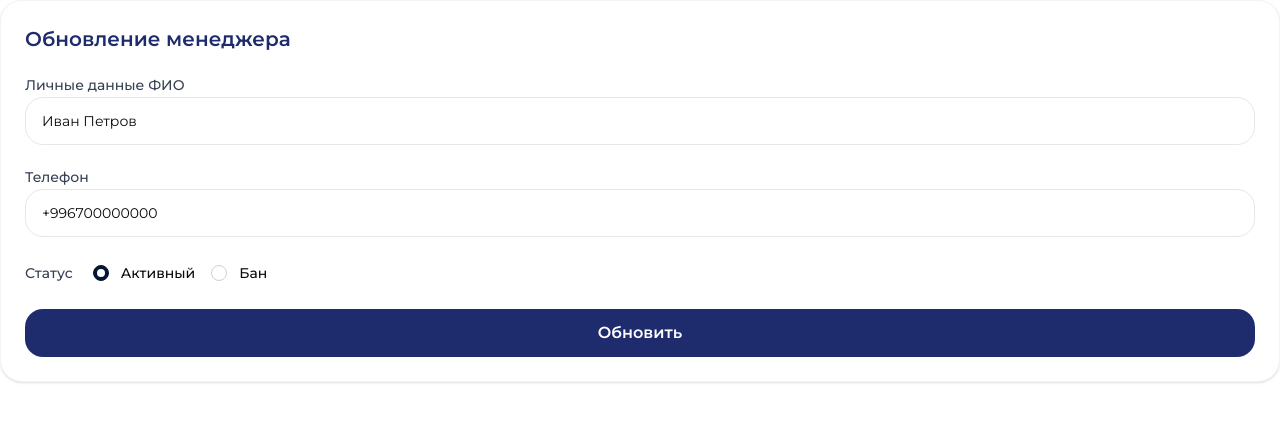
UpdateManagerForm › проверяет формат телефона
Type "abc" into the field labelled "Телефон" at (640, 213), box [25, 189, 1255, 237]
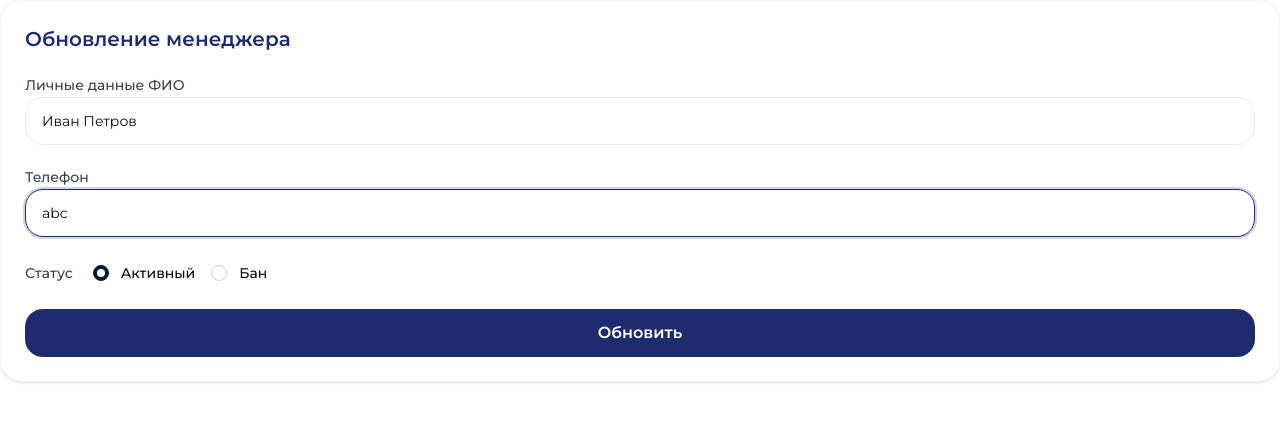
Click the button "Обновить" at (640, 333), box [25, 309, 1255, 357]
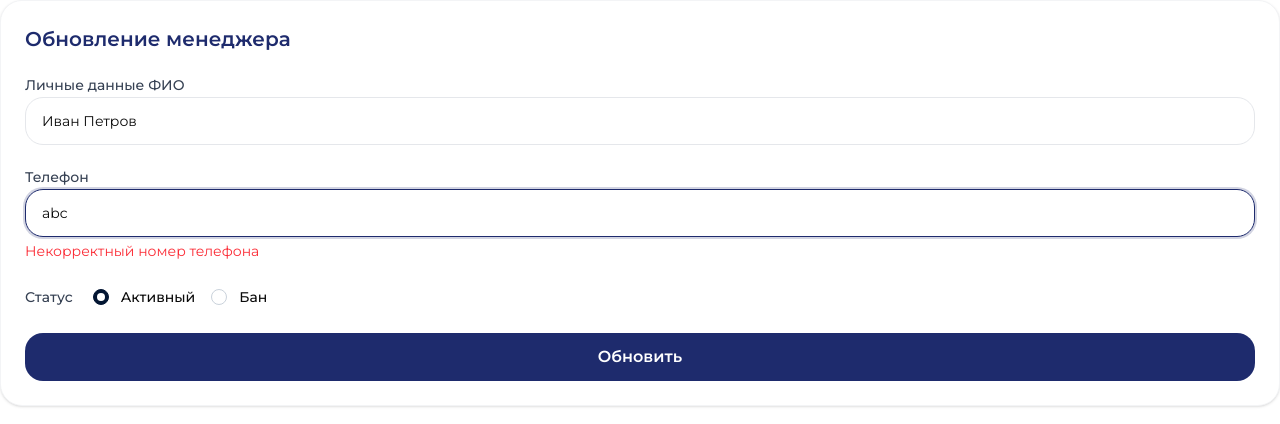
Check: the text "Некорректный номер телефона" is shown, box [25, 242, 259, 260]
